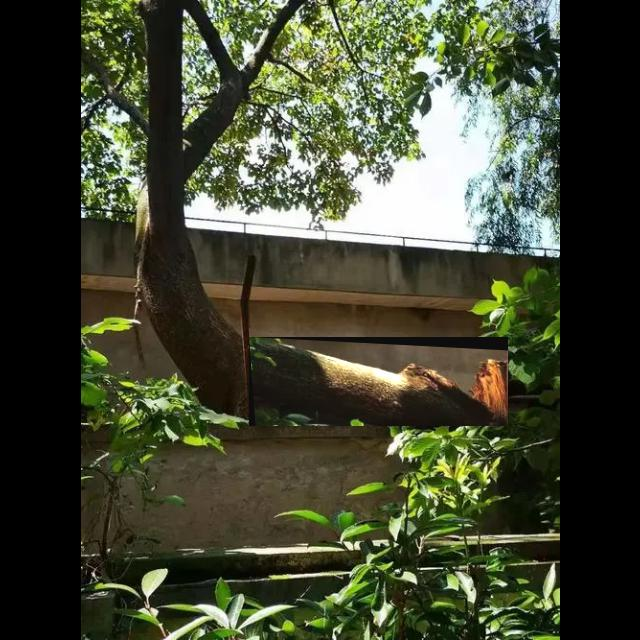Fallen Tree: (249, 337, 509, 427)
